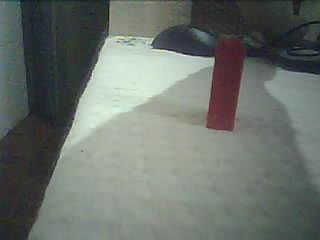lego: (204, 38, 244, 130)
